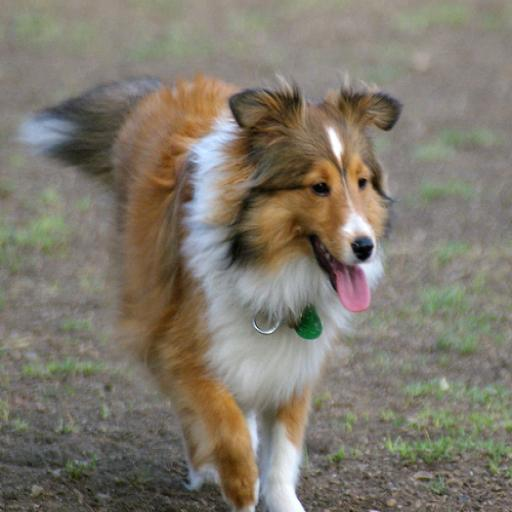dog_face: (223, 88, 403, 317)
